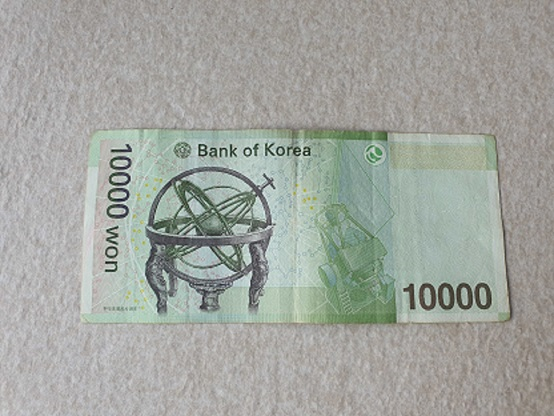10000won: (81, 129, 513, 325)
